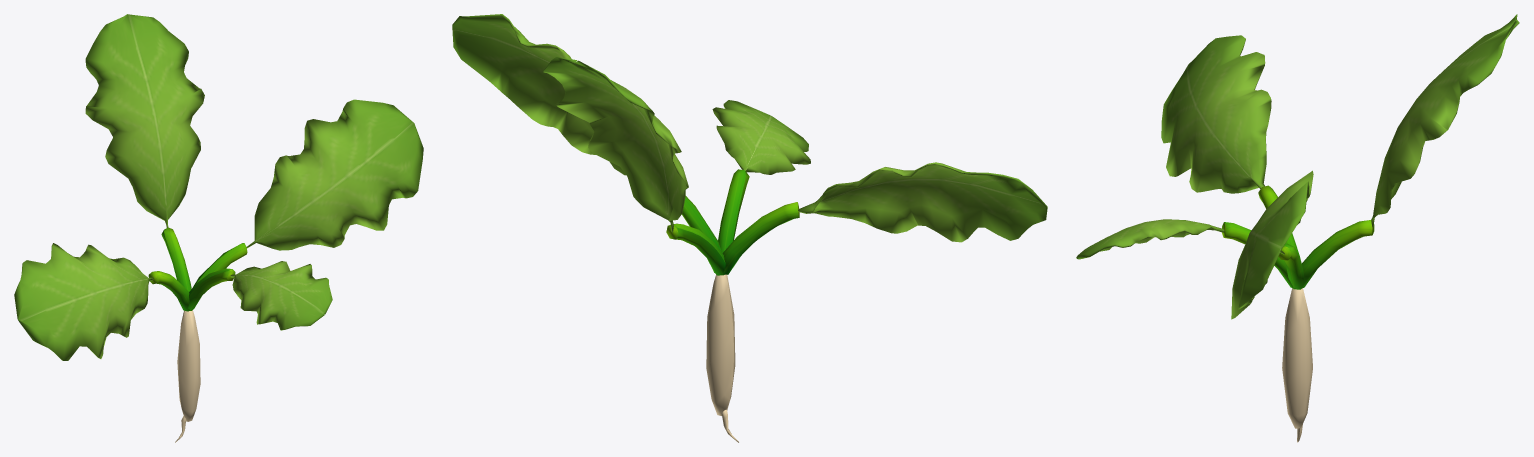
The model's file is NP_Radish_Young_LOD1.fbx.
The picture shows the model from 3 angles, left to right: view 1: azimuth 30°, elevation 25°; view 2: azimuth 150°, elevation 25°; view 3: azimuth 270°, elevation 25°; orthographic projection. The views are drawn at different scales.
Parts seen in each view (by area): view 1: NP_Radish_Young; view 2: NP_Radish_Young; view 3: NP_Radish_Young.
Part boxes in pixels (box(x1,y1,x2,y2)): NP_Radish_Young: box(14, 14, 423, 442); NP_Radish_Young: box(452, 14, 1047, 442); NP_Radish_Young: box(1076, 14, 1519, 442).
Bounding box in the file's own units: 58.31 × 45.28 × 40.79.
